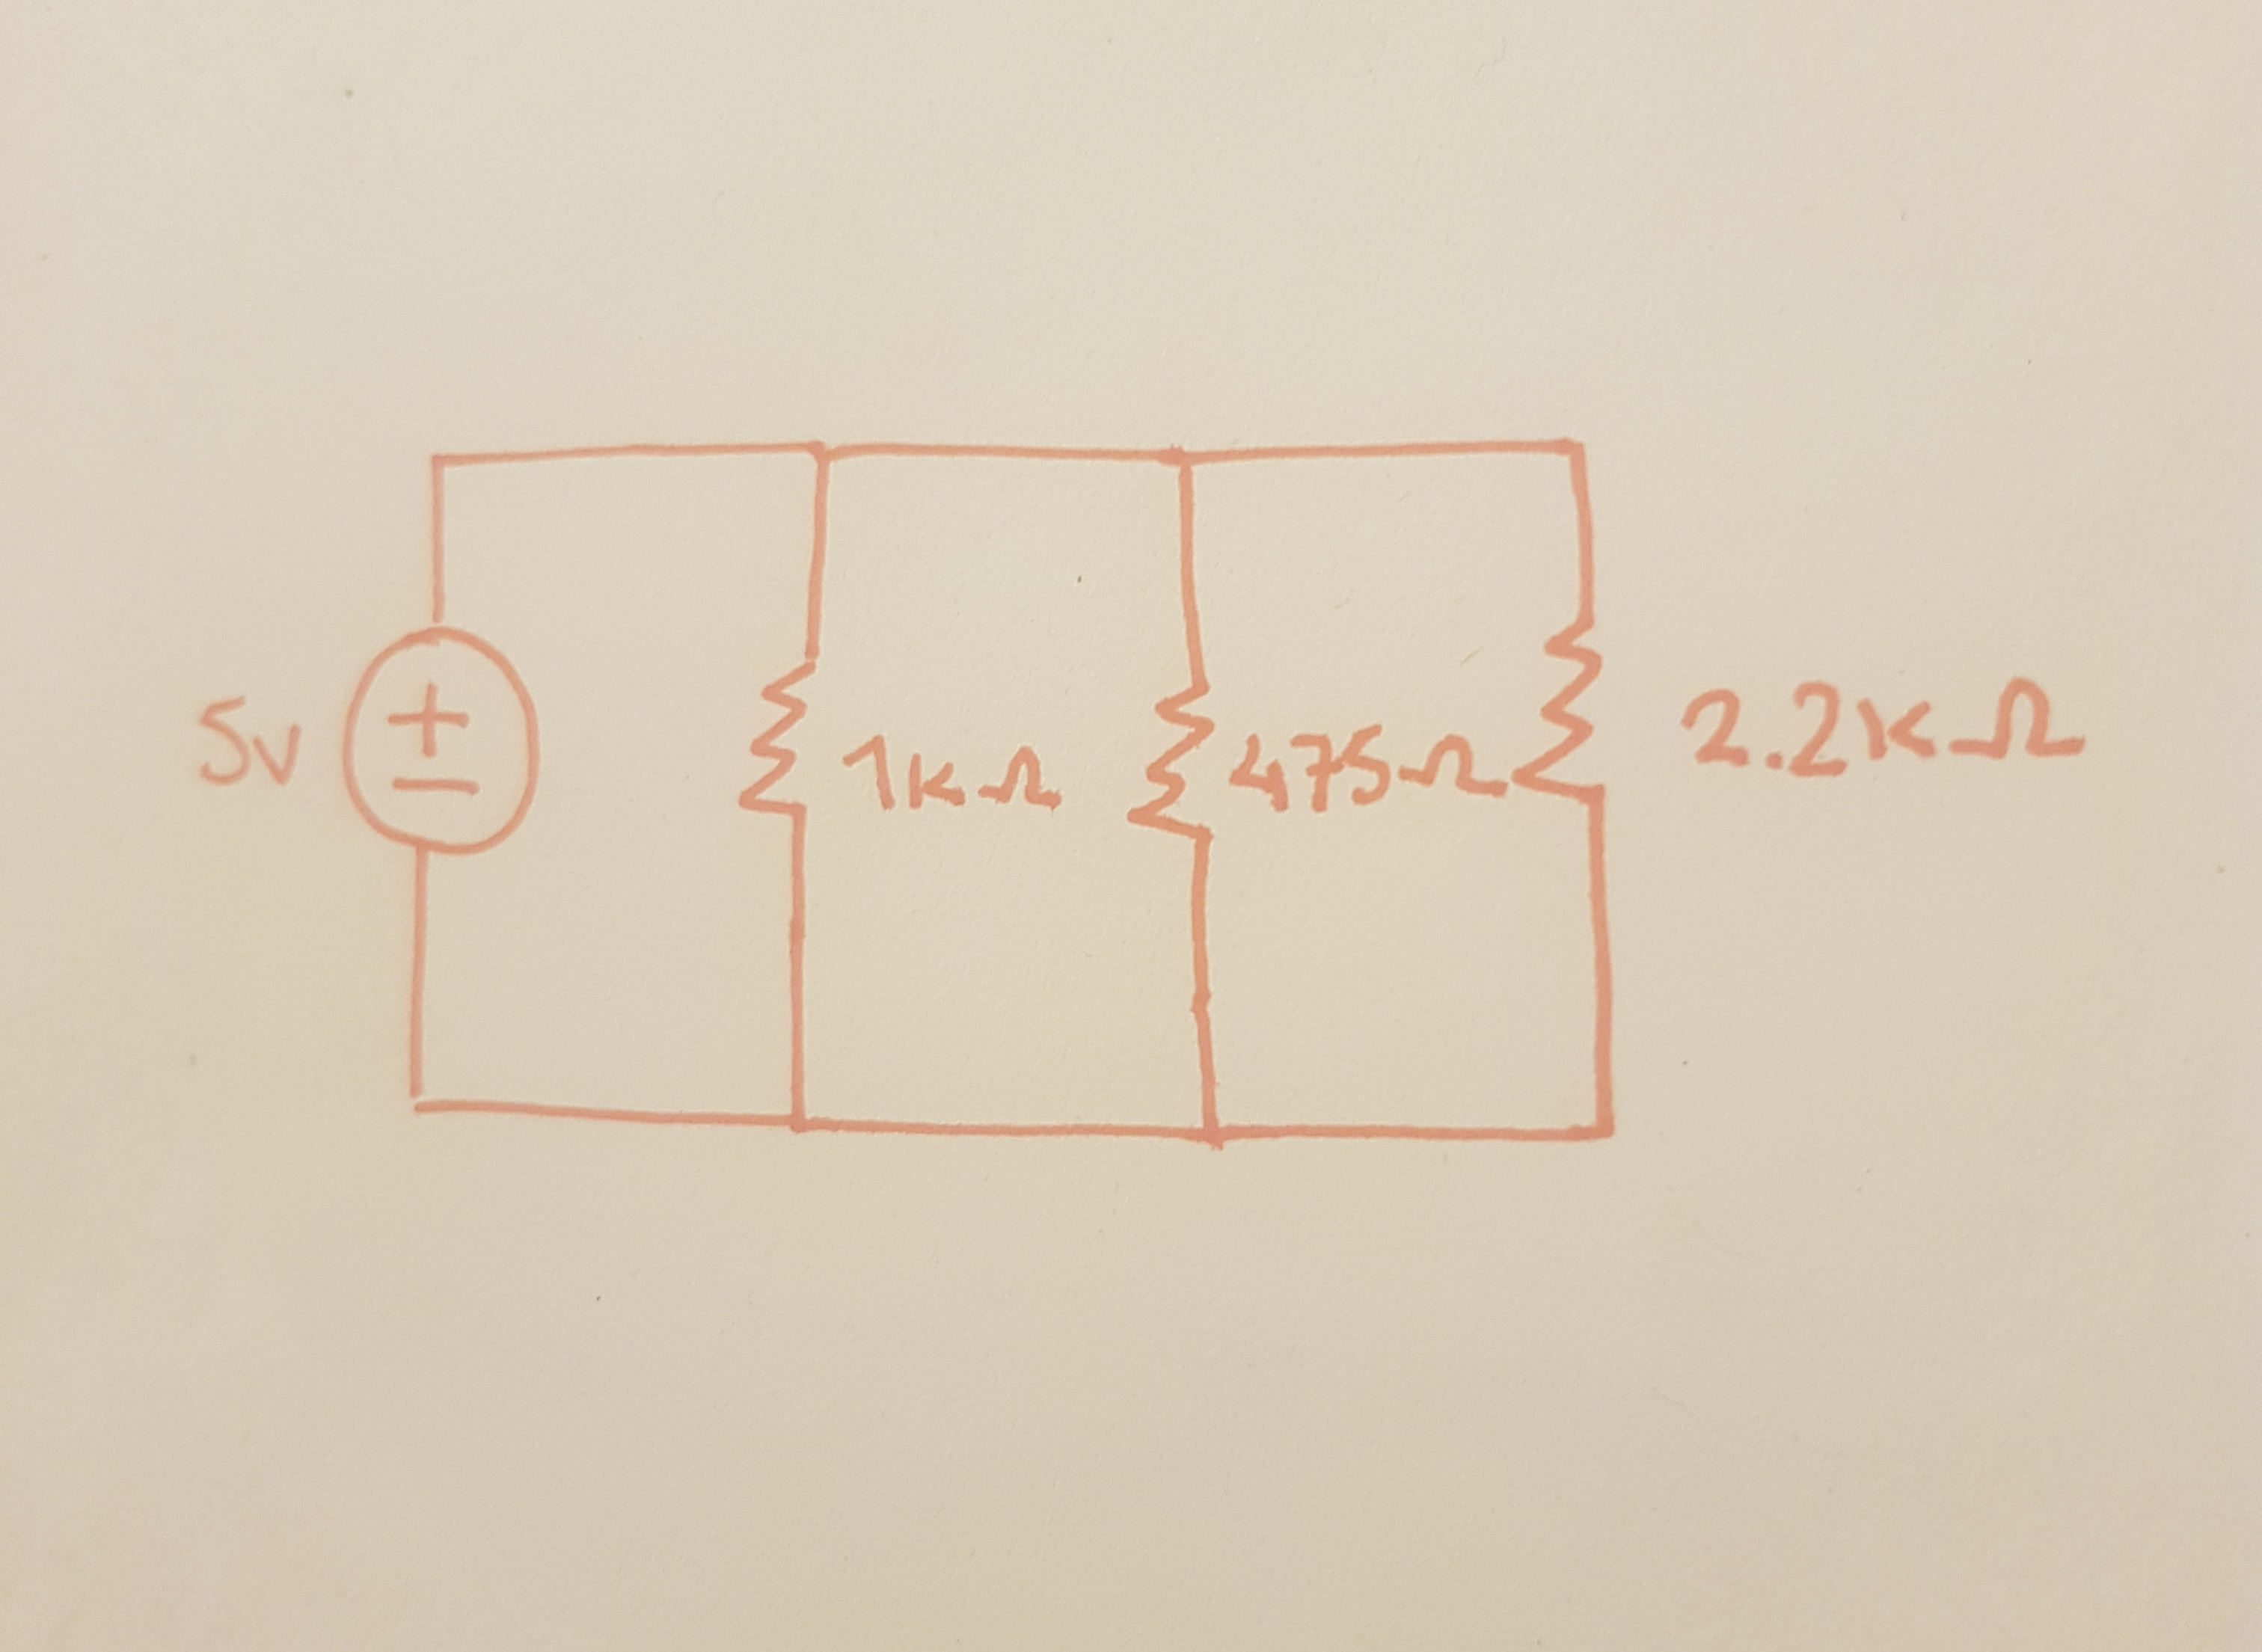junction: (393, 1069, 464, 1136), (1544, 414, 1603, 481), (1572, 1101, 1632, 1162), (787, 420, 852, 476), (1177, 1106, 1236, 1166), (773, 1090, 829, 1152), (1161, 430, 1207, 485), (416, 441, 464, 490)
resistor: (1502, 590, 1621, 830), (1120, 657, 1229, 869), (725, 637, 834, 844)
text: (1675, 672, 2104, 786), (1219, 716, 1516, 822), (839, 732, 1085, 822), (184, 672, 321, 797)
voltage.dc: (334, 620, 548, 864)
